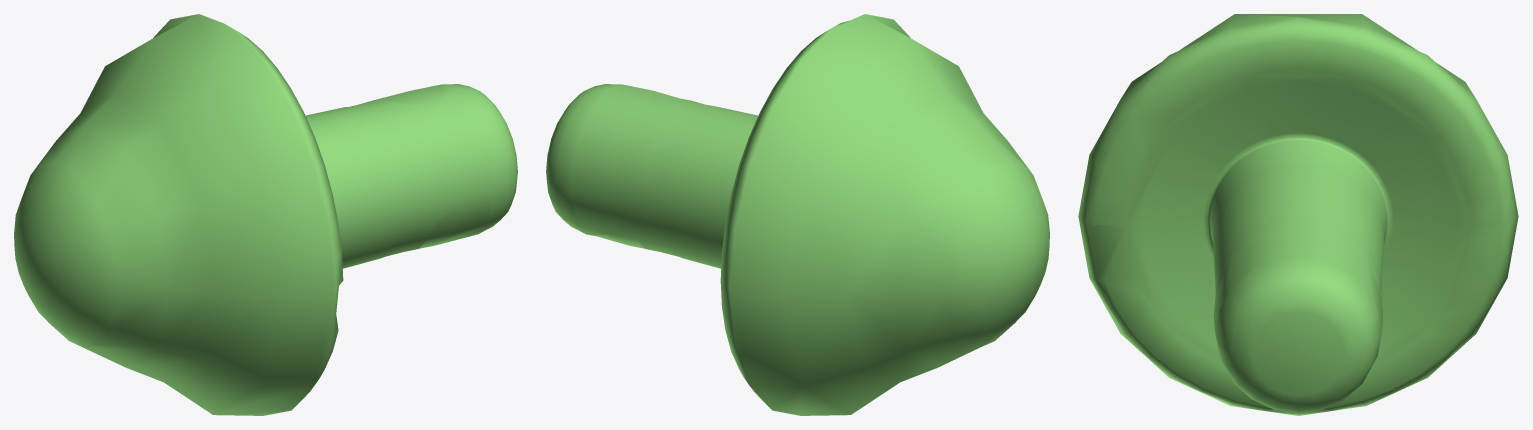
The model's file is mushroom_2.fbx.
The picture shows the model from 3 angles, left to right: view 1: azimuth 30°, elevation 25°; view 2: azimuth 150°, elevation 25°; view 3: azimuth 270°, elevation 25°; orthographic projection. The views are drawn at different scales.
Visible parts, largest first — view 1: polySurface2; view 2: polySurface2; view 3: polySurface2.
Boxes of the visible parts, bbox=[...] form: polySurface2: bbox=[14, 14, 517, 415]; polySurface2: bbox=[546, 14, 1049, 415]; polySurface2: bbox=[1078, 14, 1518, 415].
Bounding box in the file's own units: 6.23 × 4.78 × 4.78.
